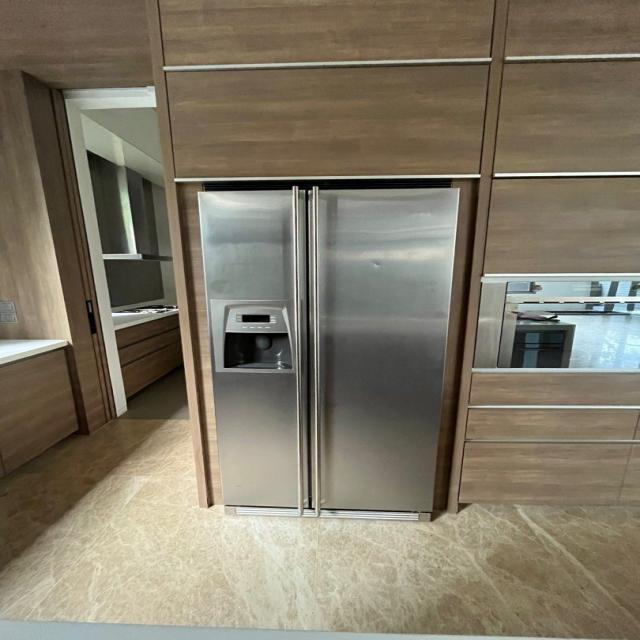refrigerator: (200, 180, 468, 525)
